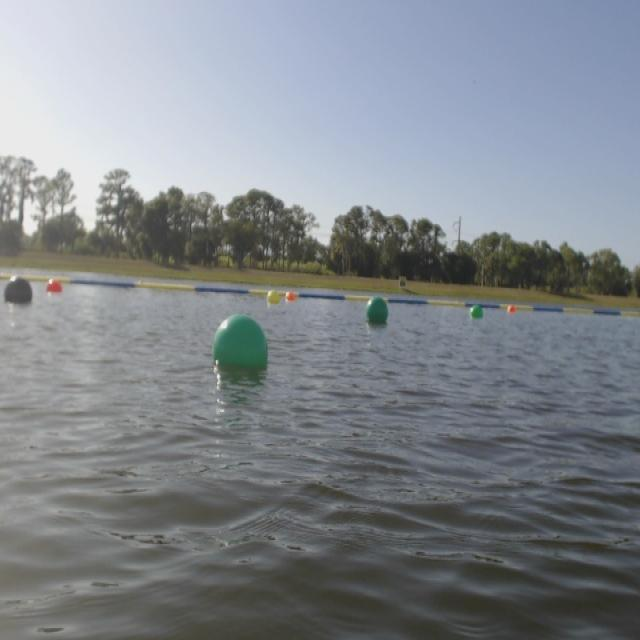Black_Buoy: (2, 269, 35, 308)
Green_Buoy: (220, 313, 268, 394), (364, 294, 390, 329), (464, 300, 488, 329)
Orange__Buoy: (507, 298, 522, 318), (48, 280, 70, 291), (285, 292, 301, 302)
